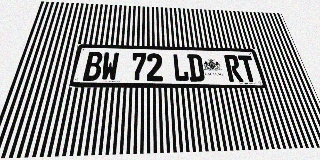2: (147, 53, 163, 81)
7: (130, 53, 146, 81)
B: (83, 52, 103, 81)
D: (187, 54, 205, 82)
L: (172, 54, 189, 81)
R: (224, 55, 244, 82)
T: (237, 55, 258, 82)
W: (100, 52, 119, 81)
